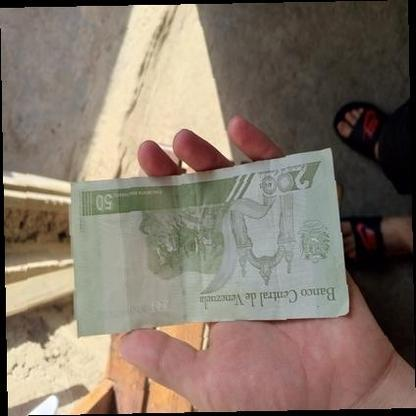fifty-back-vef: (70, 147, 350, 336)
